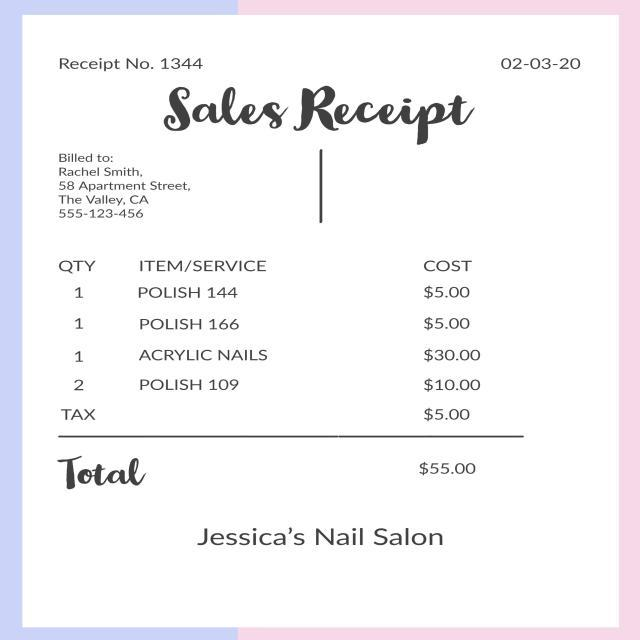ROI: (45, 248, 505, 398), (157, 75, 493, 148), (44, 443, 484, 490), (47, 151, 197, 225), (53, 404, 476, 425), (179, 521, 464, 551), (46, 46, 211, 73), (496, 53, 586, 74)
